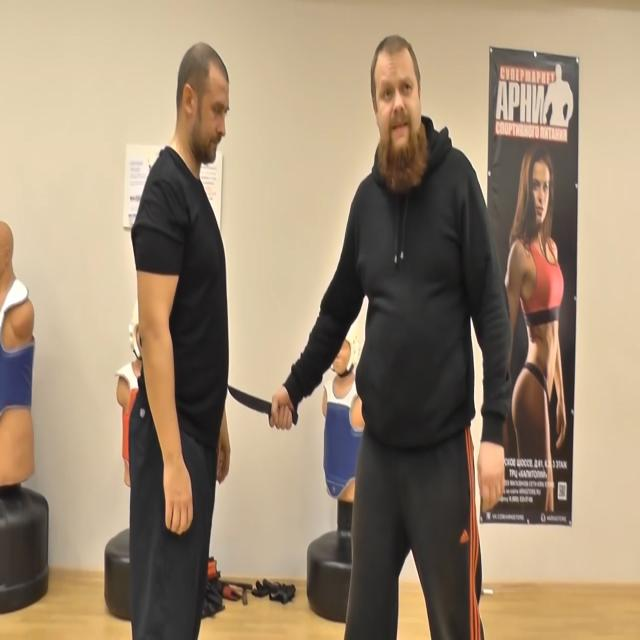knife: (227, 376, 285, 435)
